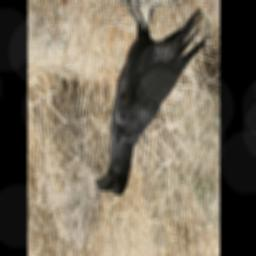Crow: (94, 0, 206, 197)
